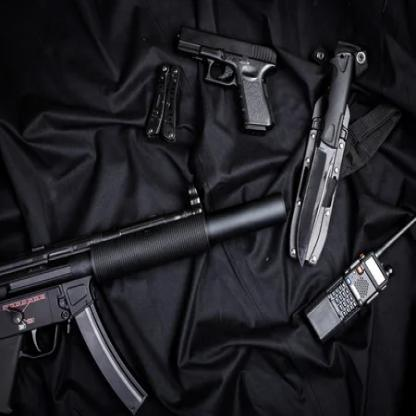Gun: (0, 184, 287, 416)
Knife: (290, 37, 370, 267)
Pistol: (174, 23, 279, 135)
